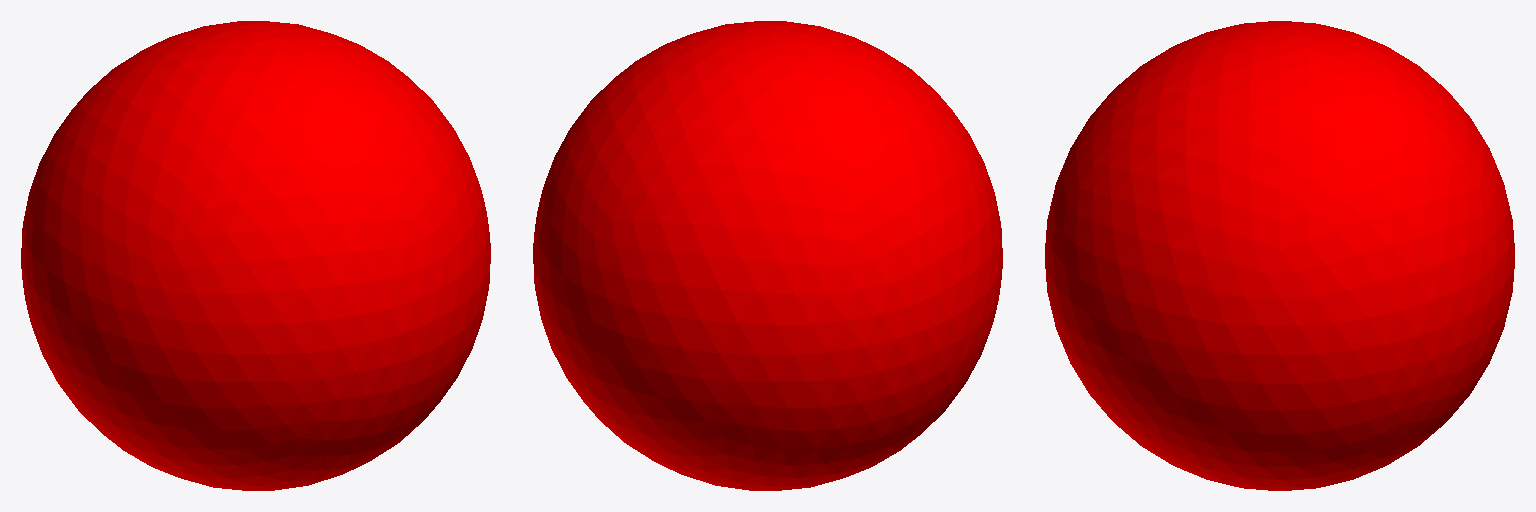
File: RedSphere.obj
3 renders of one model, left to right at view 1: azimuth 30°, elevation 25°; view 2: azimuth 150°, elevation 25°; view 3: azimuth 270°, elevation 25°, orthographic.
Visible parts, largest first — view 1: Icosphere_Icosphere.001; view 2: Icosphere_Icosphere.001; view 3: Icosphere_Icosphere.001.
Boxes of the visible parts, x1=… form: Icosphere_Icosphere.001: x1=21, y1=21, x2=490, y2=490; Icosphere_Icosphere.001: x1=533, y1=21, x2=1002, y2=490; Icosphere_Icosphere.001: x1=1045, y1=21, x2=1514, y2=490.
Size of the model in its own units: 2 by 2 by 2.